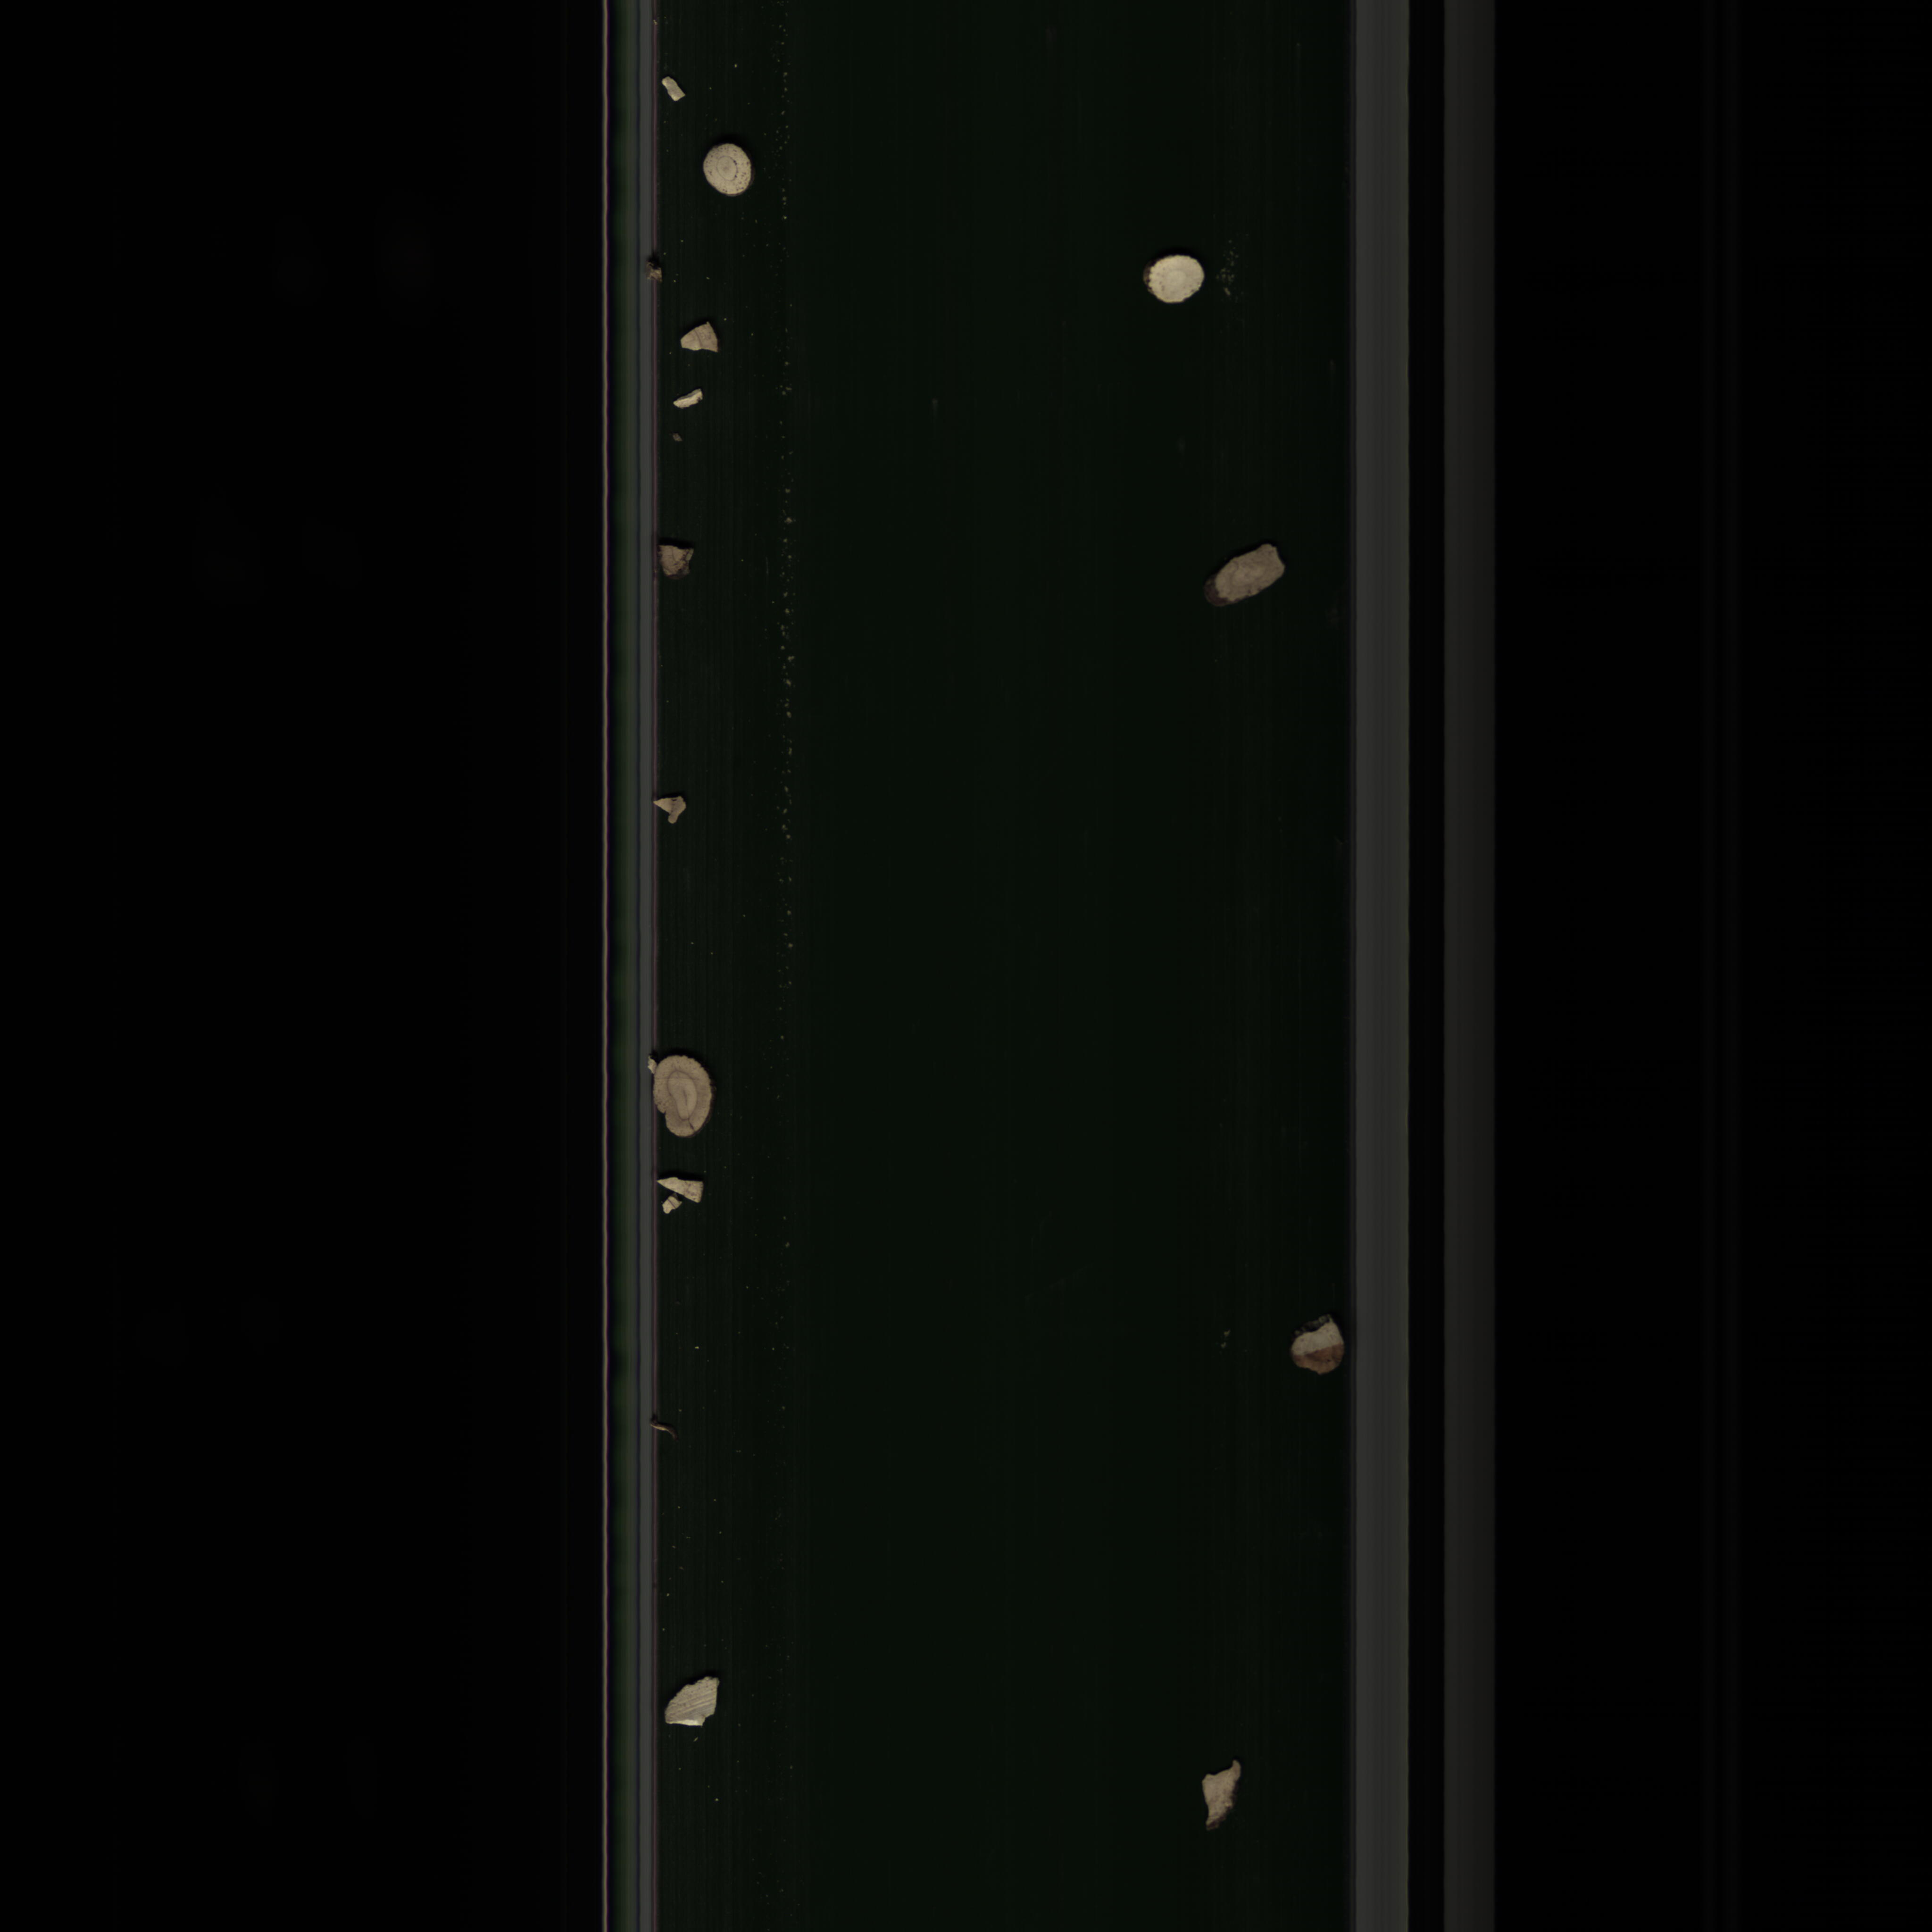debris: (662, 1667, 734, 1750), (1191, 1748, 1253, 1840), (655, 1166, 713, 1221), (667, 322, 731, 357), (648, 794, 694, 828), (656, 74, 697, 103), (672, 386, 713, 412)
distortion: (1184, 534, 1292, 617)
moldy: (655, 541, 708, 587)
